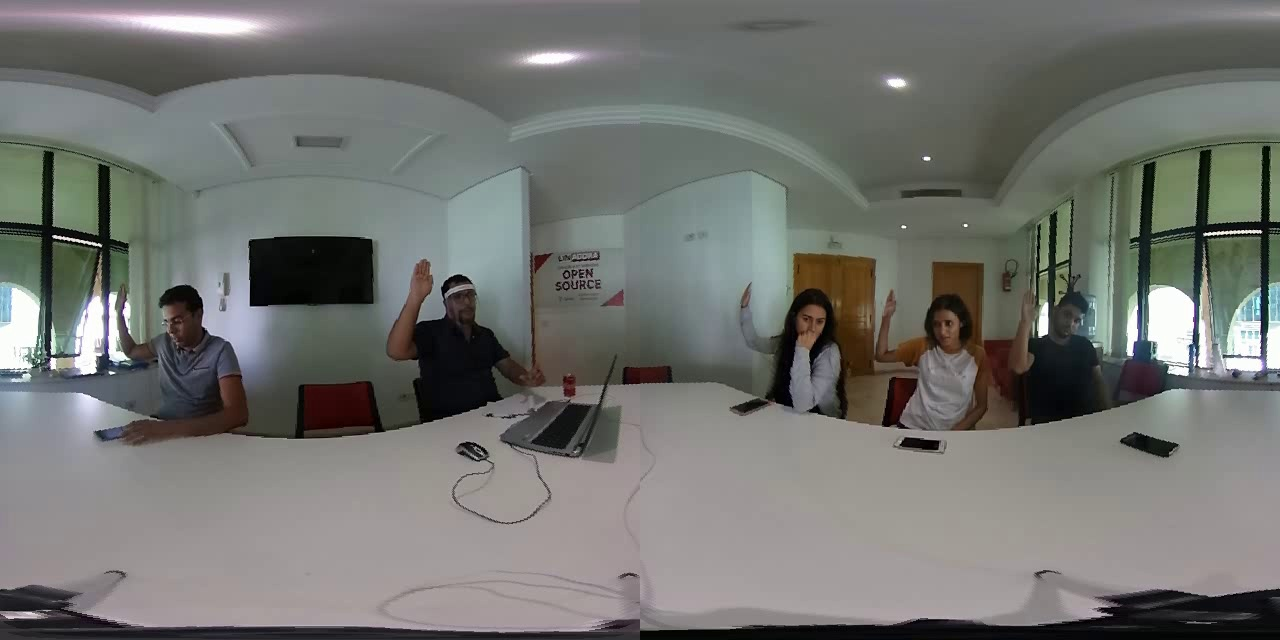person: (364, 253, 538, 417), (104, 275, 257, 441), (869, 280, 996, 451), (996, 272, 1115, 426), (734, 273, 850, 419)
voting: (386, 253, 439, 369), (1003, 278, 1044, 384), (107, 277, 146, 373), (871, 280, 906, 377), (737, 272, 766, 361)
